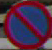No waiting: (5, 0, 47, 45)
